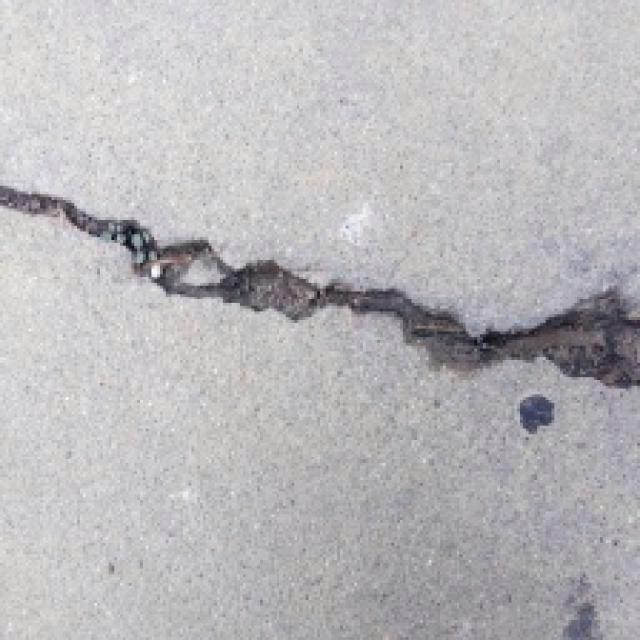SurfaceCrack: (0, 164, 634, 410)
